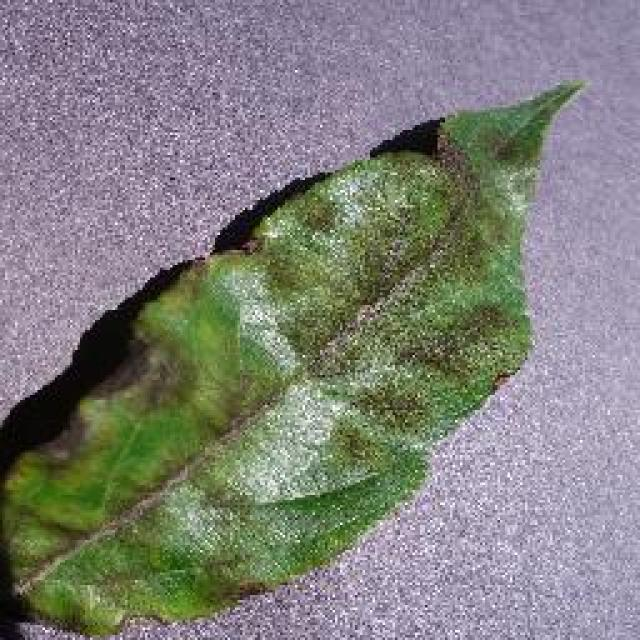apple scab disease: (0, 75, 588, 637)
